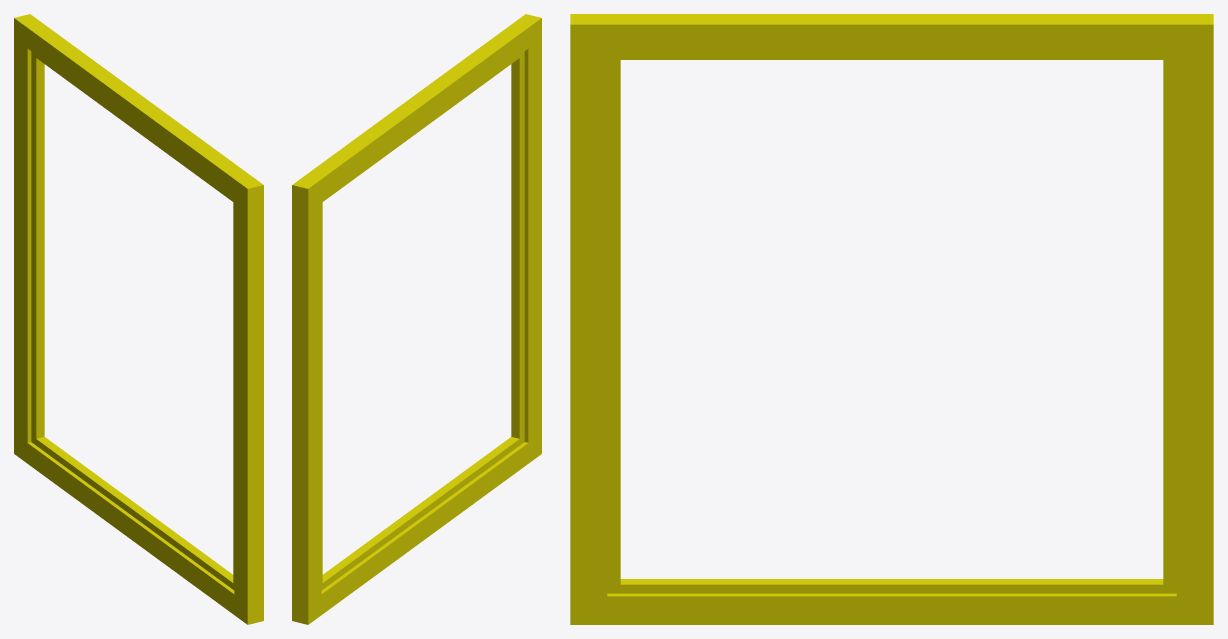
Rendered from Window_A_Edge.fbx.
The picture shows the model from 3 angles, left to right: view 1: azimuth 30°, elevation 25°; view 2: azimuth 150°, elevation 25°; view 3: azimuth 270°, elevation 25°; orthographic projection. The views are drawn at different scales.
Visible parts, largest first — view 1: Window_A_Edge; view 2: Window_A_Edge; view 3: Window_A_Edge.
Part boxes in pixels (x1,y1,x2,y2): Window_A_Edge: (14, 14, 263, 624); Window_A_Edge: (292, 14, 541, 624); Window_A_Edge: (570, 14, 1213, 624).
Bounding box in the file's own units: 8.41 × 217 × 211.
